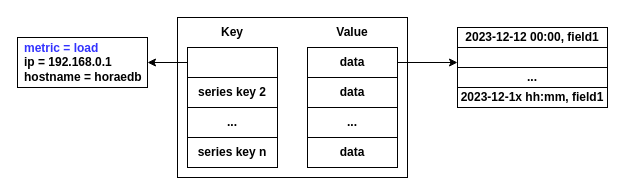
Image size: 625x195. Some labels were removed from this diagram. The centre of each missing label's shape, as x and y in pixels:
"2023-12-12 00:01, field1" belongs at pixel 532 57.
"series key 1" belongs at pixel 232 62.
